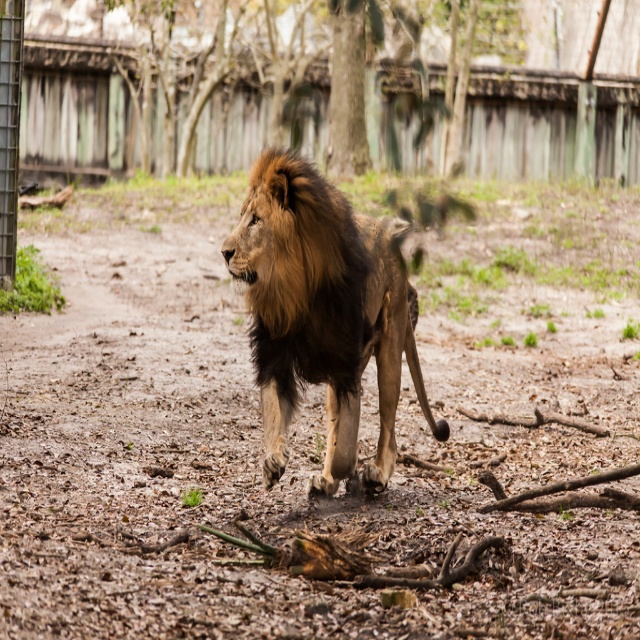Lion: (221, 143, 450, 499)
